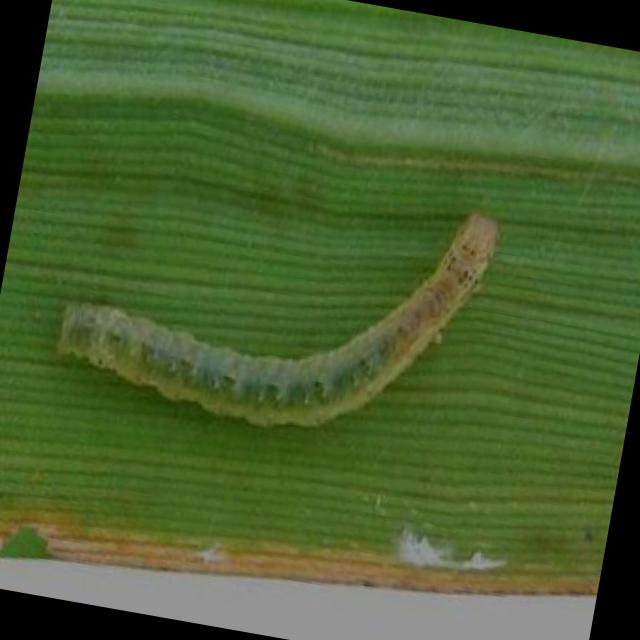leaf-folder: (30, 123, 513, 508)
